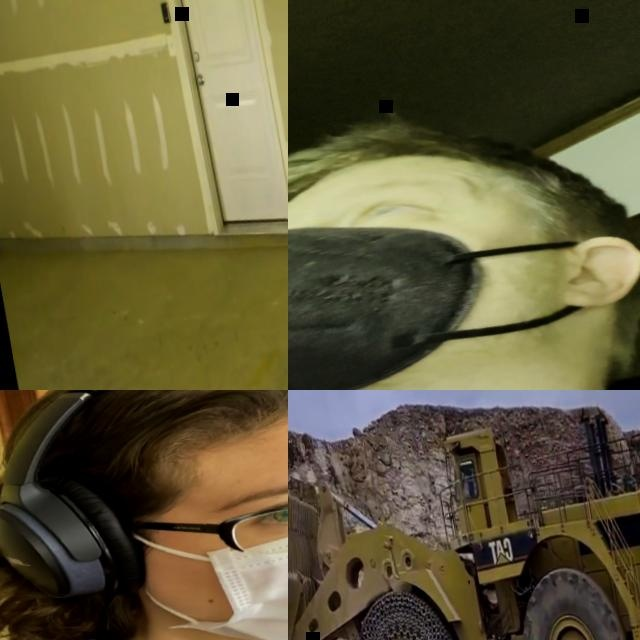Mask: (288, 173, 633, 390), (126, 496, 288, 640)
NO-Hardhat: (288, 81, 610, 219), (0, 390, 288, 482)
NO-Safety Vest: (0, 571, 288, 640)
Person: (288, 67, 640, 390), (0, 390, 288, 640), (470, 471, 479, 498)
machinery: (288, 390, 640, 640)
